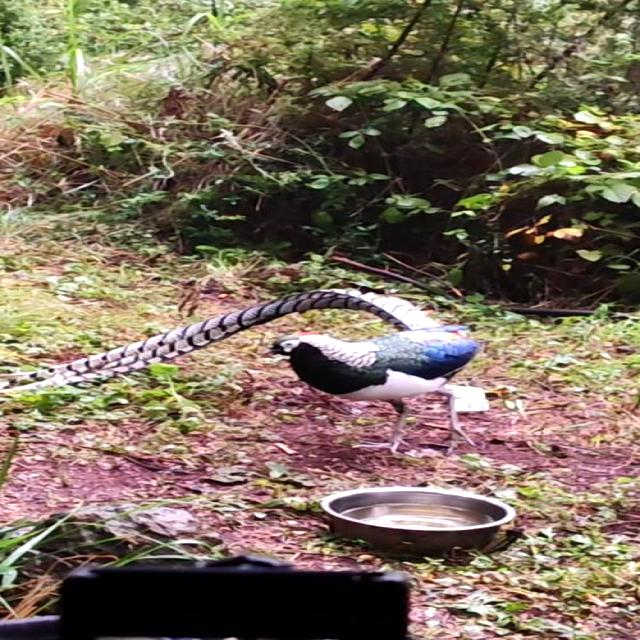Chrysolophus amherstiae: (22, 290, 408, 389)
